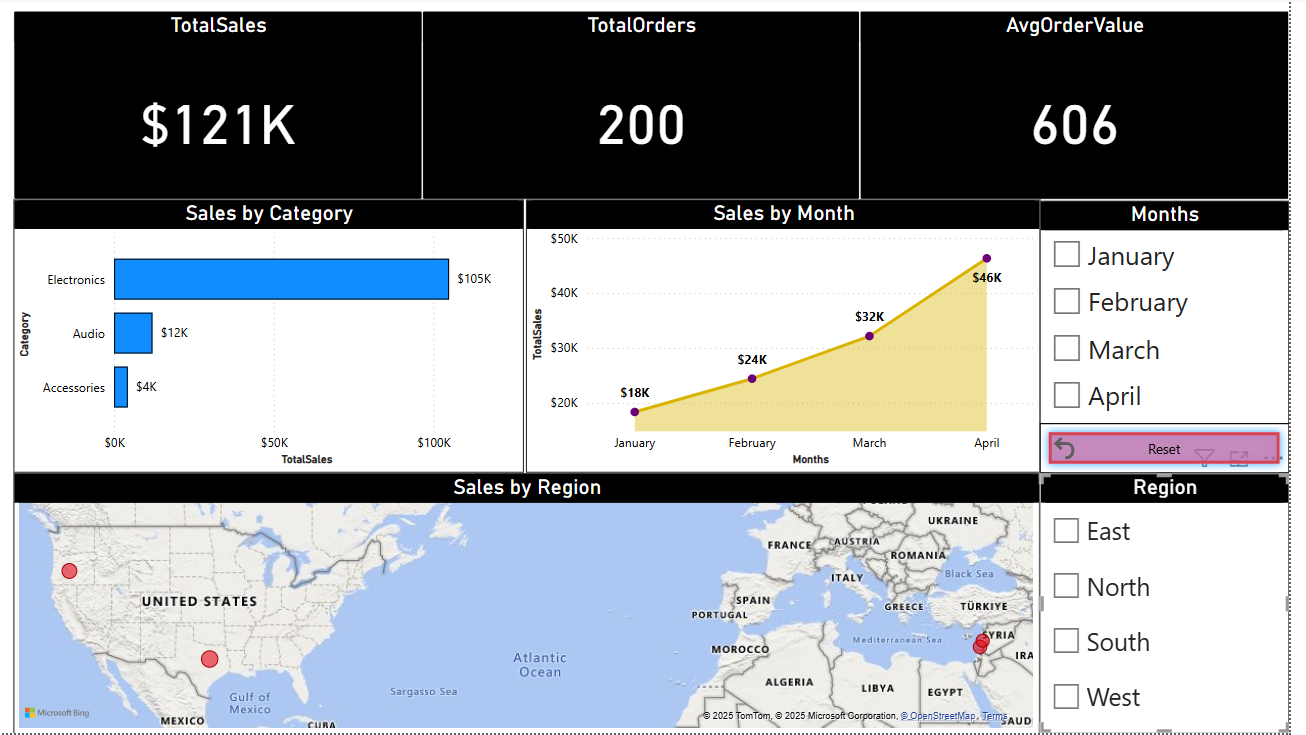

What the dashboard file says about the page in this screenshot:
{"tool":"powerbi","page":{"name":"SalesOverview","canvas":[1280,720],"ordinal":0},"visuals":[{"type":"card","title":"TotalSales","fields":{"Values":["Sum(Sheet1.TotalSales)"]},"box":[32.2,13.4,399.8,185.2],"z":0},{"type":"card","title":"TotalOrders","fields":{"Values":["CountNonNull(Sheet1.OrderID)"]},"box":[432,13.4,428,185.2],"z":1000},{"type":"card","title":"AvgOrderValue","fields":{"Values":["Sheet1.AvgOrderValue"]},"box":[860,13.8,420,185],"z":2000},{"type":"clusteredBarChart","title":"Sales by Category","fields":{"Category":["Sheet1.Category"],"Y":["Sum(Sheet1.TotalSales)"]},"box":[32.2,198.6,499.1,267],"z":3000},{"type":"lineChart","title":"Sales by Month","fields":{"Y":["Sum(Sheet1.TotalSales)"],"Category":["Sheet1.Date.Variation.Date Hierarchy.Month"]},"box":[532.7,198.6,503.1,267],"z":4000},{"type":"slicer","title":"Months","fields":{"Values":["Sheet1.Date.Variation.Date Hierarchy.Month"]},"box":[1036.2,198.8,243.8,218.8],"z":5000},{"type":"map","title":"Sales by Region","fields":{"Size":["Sum(Sheet1.TotalSales)"],"Category":["Sheet1.Region"]},"box":[32.2,465.6,1003.6,254.9],"z":6000},{"type":"slicer","title":"Region","fields":{"Values":["Sheet1.Region"]},"box":[1035.8,465.6,244.2,254.9],"z":7000},{"type":"actionButton","box":[1036.2,417.5,243.8,48.8],"z":8000}]}

Visuals, with their boxes in screenshot pixels (x1, y1, x2, y2), scaled from the page's 1280x720 canvas onto the 1306x735 screenshot:
"TotalSales" card: detection(33, 14, 441, 203)
"TotalOrders" card: detection(441, 14, 877, 203)
"AvgOrderValue" card: detection(877, 14, 1305, 203)
"Sales by Category" clusteredBarChart: detection(33, 203, 542, 475)
"Sales by Month" lineChart: detection(544, 203, 1057, 475)
"Months" slicer: detection(1057, 203, 1305, 426)
"Sales by Region" map: detection(33, 475, 1057, 734)
"Region" slicer: detection(1057, 475, 1305, 734)
actionButton: detection(1057, 426, 1305, 476)
